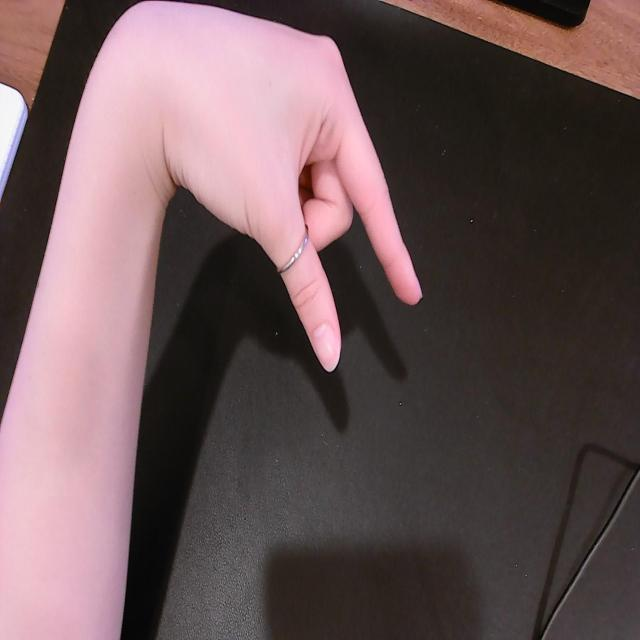Q: (161, 1, 425, 376)
